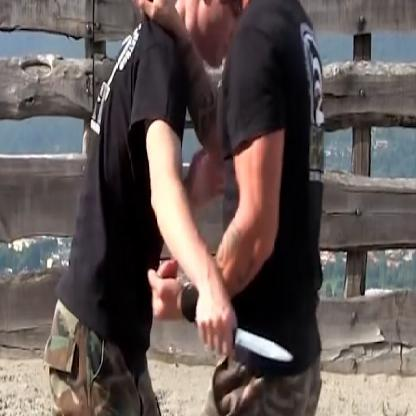knife: (193, 292, 296, 377)
